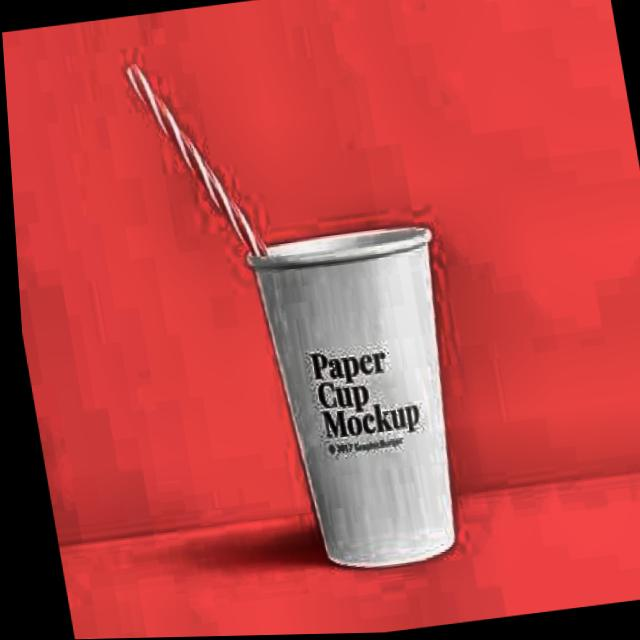Cup: (228, 213, 493, 590)
